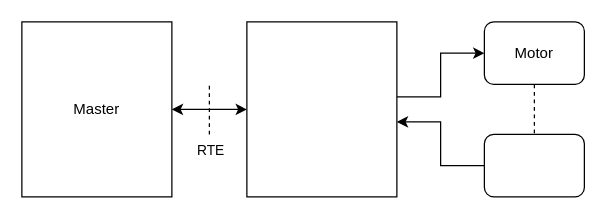
Image size: 606x219. Some labels were removed from this diagram. The centre of each missing label's shape, as x and y in pixels:
Encoder: the point at 533,165
Slave: the point at 321,109
